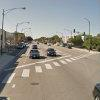Crosswalk: (6, 58, 78, 75)
